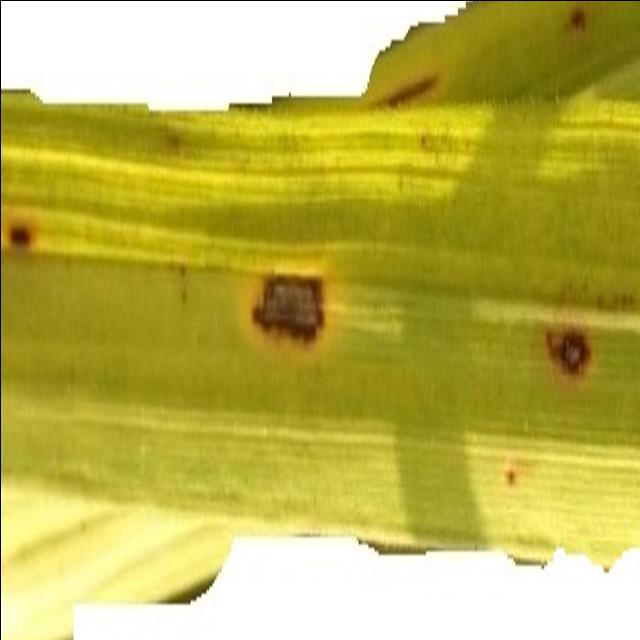Brown spot: (210, 238, 348, 361), (525, 302, 634, 418), (0, 211, 59, 265)
